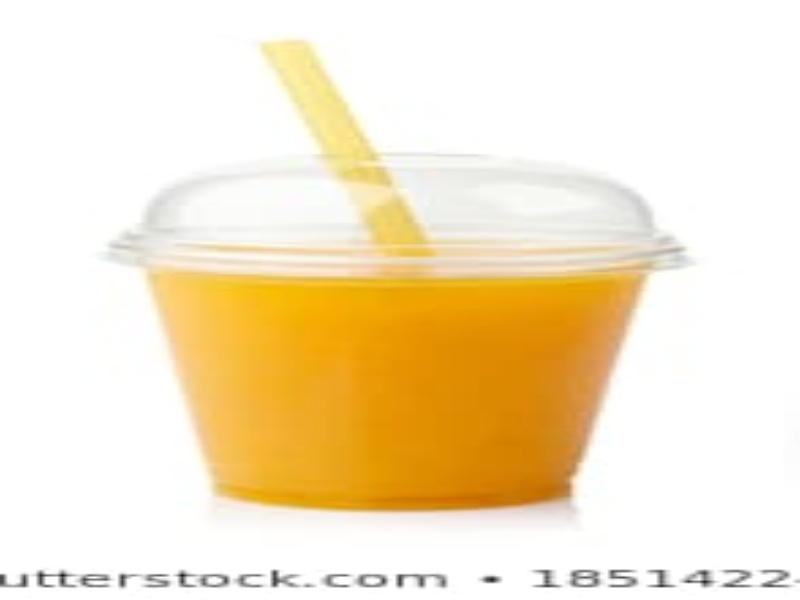plastic-cup: (102, 143, 693, 516)
straw: (259, 35, 428, 253)
